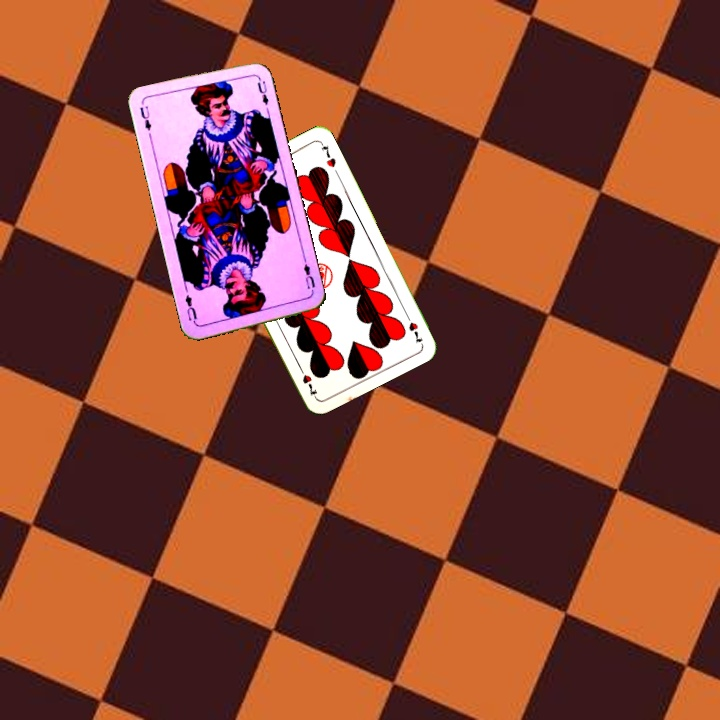EU: (299, 256, 317, 297), (136, 101, 154, 133)
H7: (401, 308, 425, 346)
